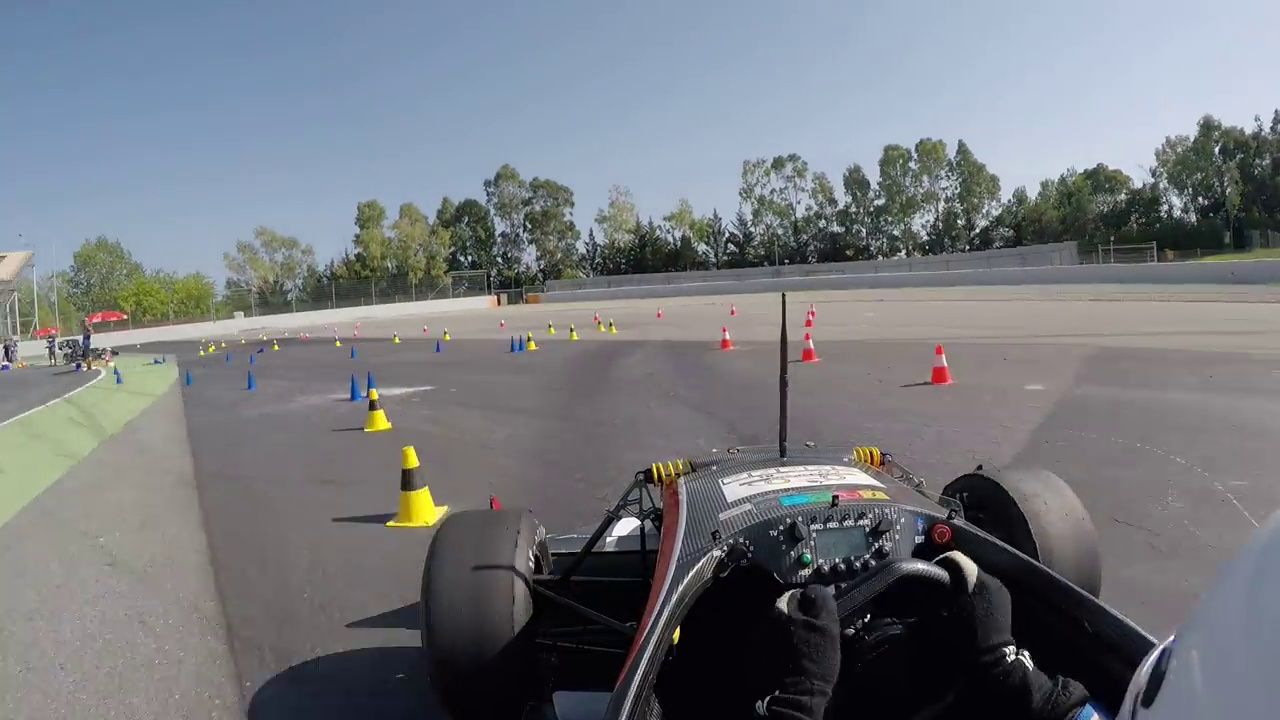Cone: (390, 443, 445, 531), (362, 388, 393, 432), (925, 344, 954, 388), (798, 330, 817, 362)
